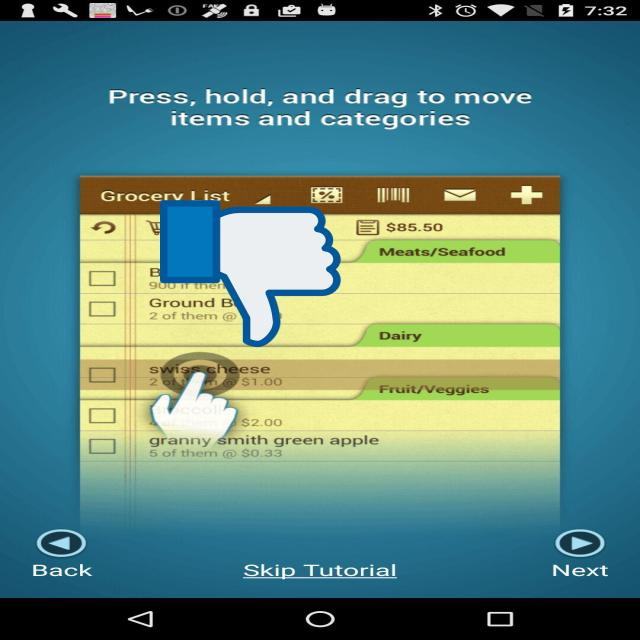obstruction: (160, 197, 341, 350)
